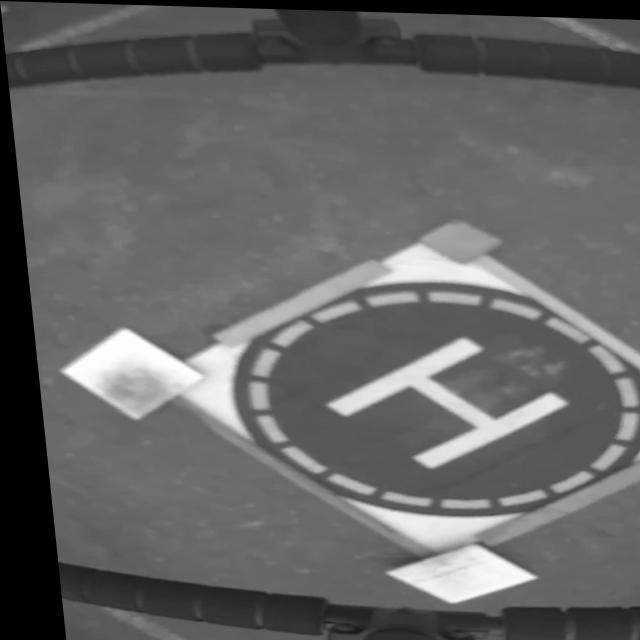Helipad: (320, 332, 561, 465)
